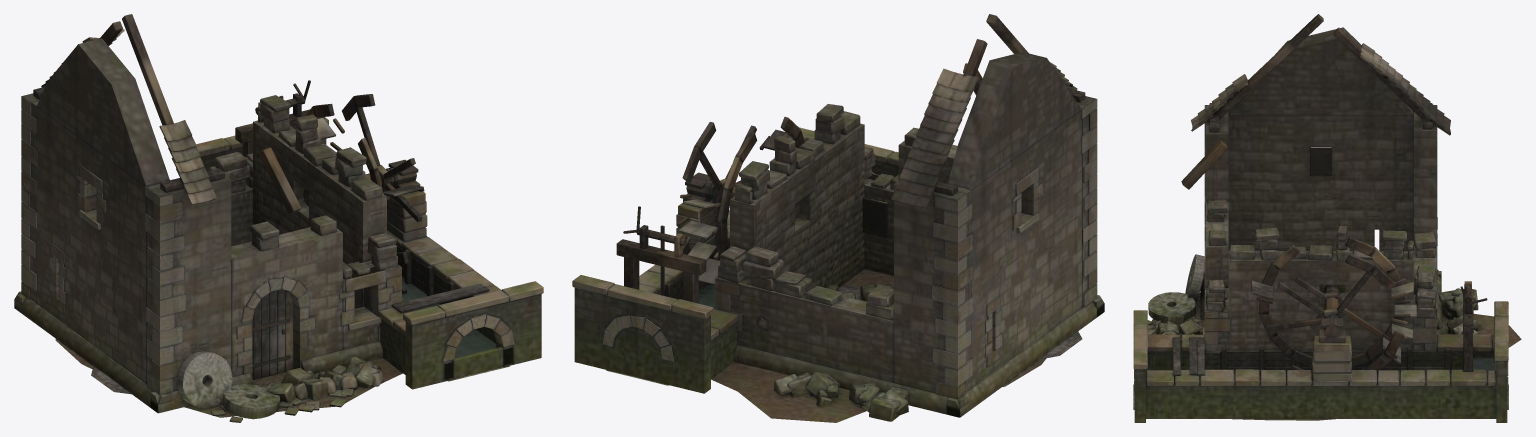
The model's file is mill_ruin.glb.
3 renders of one model, left to right at view 1: azimuth 30°, elevation 25°; view 2: azimuth 150°, elevation 25°; view 3: azimuth 270°, elevation 25°, orthographic. The views are drawn at different scales.
Visible parts, largest first — view 1: mill_ruin_LOD0; view 2: mill_ruin_LOD0; view 3: mill_ruin_LOD0.
Part boxes in pixels (<box>): mill_ruin_LOD0: <box>14,14,543,422</box>; mill_ruin_LOD0: <box>572,14,1104,422</box>; mill_ruin_LOD0: <box>1133,14,1521,422</box>.
Size of what is drawn, in the model's own units: 9.31 by 8.38 by 10.42.
Materials: 1 (1 with a texture image).
